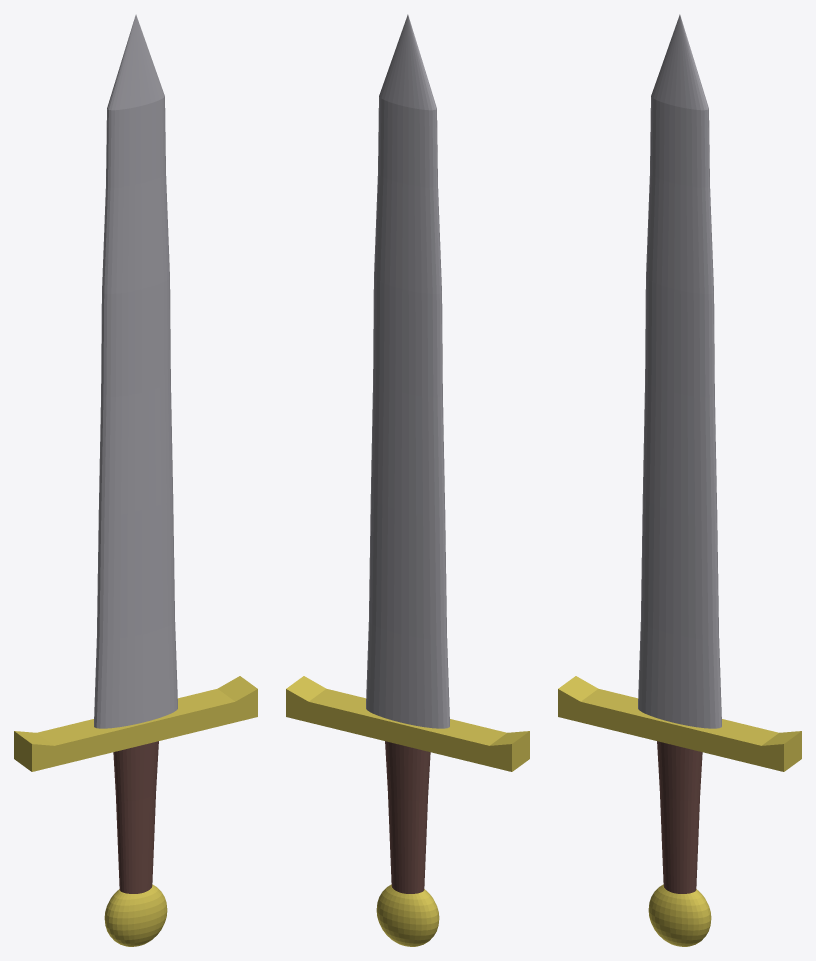
The model's file is protoL2.fbx.
3 renders of one model, left to right at view 1: azimuth 30°, elevation 25°; view 2: azimuth 150°, elevation 25°; view 3: azimuth 330°, elevation 25°, orthographic.
Parts seen in each view (by area): view 1: Cylinder; view 2: Cylinder; view 3: Cylinder.
Boxes of the visible parts, <box> form: Cylinder: <box>14,14,257,946</box>; Cylinder: <box>286,14,529,946</box>; Cylinder: <box>558,14,801,946</box>.
Bounding box in the file's own units: 73.72 × 290 × 11.63.
